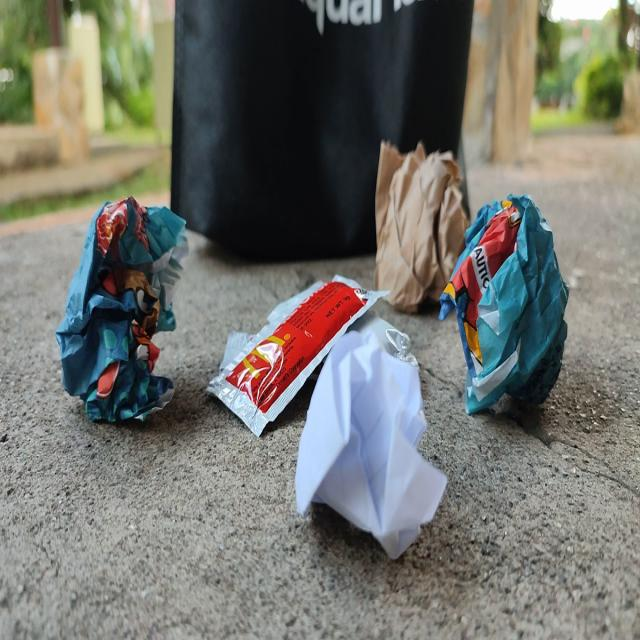paper: (44, 190, 186, 444), (302, 323, 445, 570), (438, 190, 582, 421), (372, 134, 465, 316)
